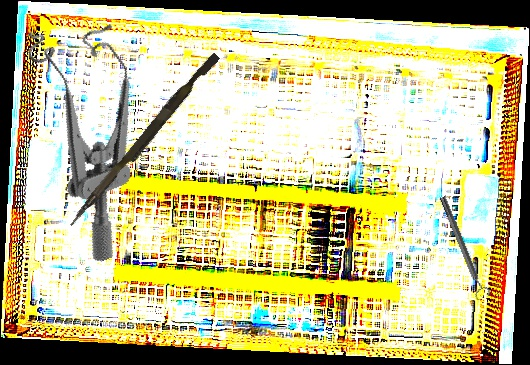Fixation Ring: (435, 193, 492, 302)
Pusher: (67, 48, 221, 233)
Speculum: (6, 3, 193, 264)
